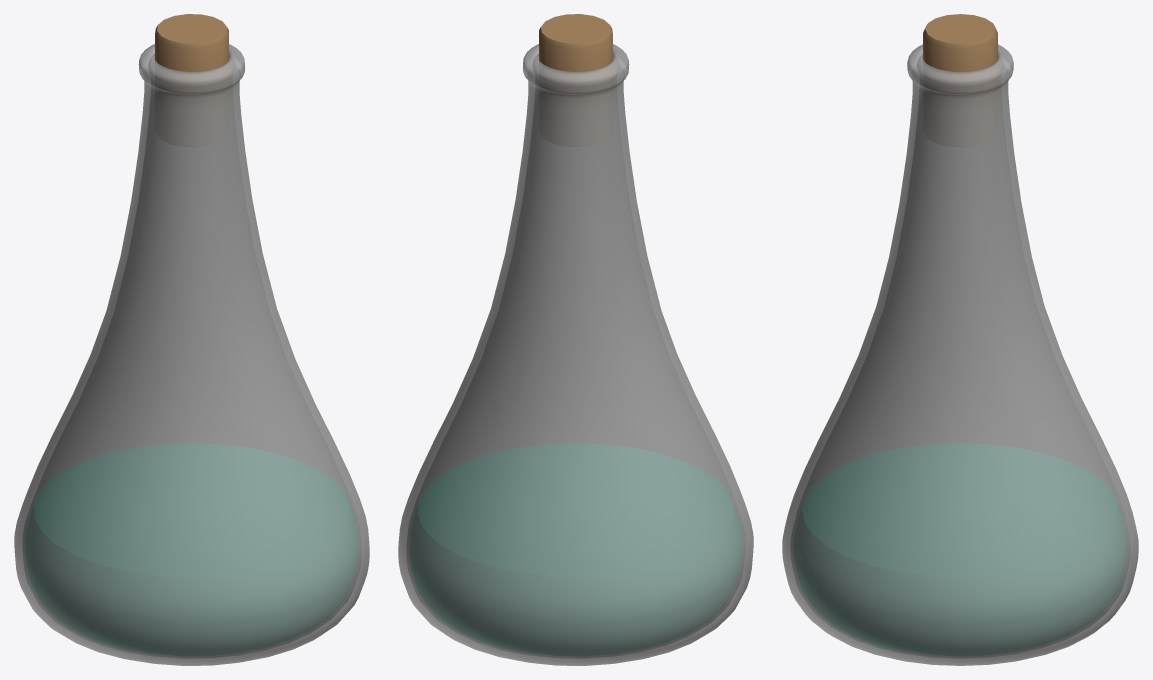
File: Potion_F.fbx
The picture shows the model from 3 angles, left to right: view 1: azimuth 30°, elevation 25°; view 2: azimuth 150°, elevation 25°; view 3: azimuth 270°, elevation 25°; orthographic projection.
Visible parts, largest first — view 1: Liquid_Surface, Cork; view 2: Liquid_Surface, Cork; view 3: Liquid_Surface, Cork.
Boxes of the visible parts, x1,y1,x2,y2 form: Liquid_Surface: (14,44,369,665); Cork: (155,14,228,71); Liquid_Surface: (398,44,753,665); Cork: (539,14,612,71); Liquid_Surface: (782,44,1138,665); Cork: (923,14,997,71).
Size of the model in its own units: 11.24 by 20.36 by 11.24.
